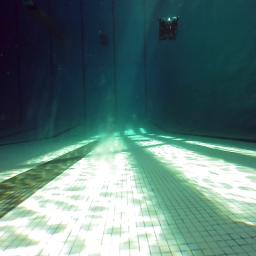Full: (100, 37, 110, 46)
front: (156, 16, 181, 43)
